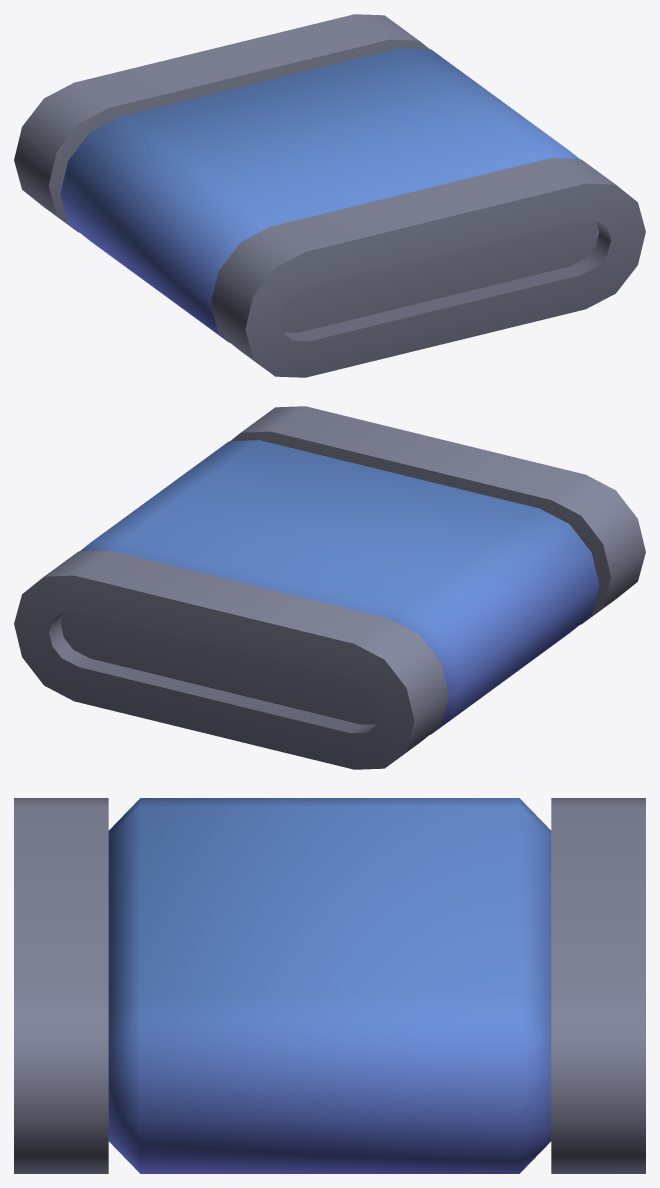
File: n5_n5_conveyor-belt_lev5.glb
3 views of the same model, one above another, from view 1: azimuth 30°, elevation 25°; view 2: azimuth 150°, elevation 25°; view 3: azimuth 270°, elevation 25° (orthographic). The views are drawn at different scales.
Parts seen in each view (by area): view 1: n5_n5_conveyor-belt_lev5; view 2: n5_n5_conveyor-belt_lev5; view 3: n5_n5_conveyor-belt_lev5.
Boxes of the visible parts, bbox=[...] form: n5_n5_conveyor-belt_lev5: bbox=[14, 14, 645, 377]; n5_n5_conveyor-belt_lev5: bbox=[14, 406, 645, 769]; n5_n5_conveyor-belt_lev5: bbox=[14, 798, 645, 1173].
Bounding box in the file's own units: 2.89 × 0.8681 × 2.89.
1 material, 1 textured.
